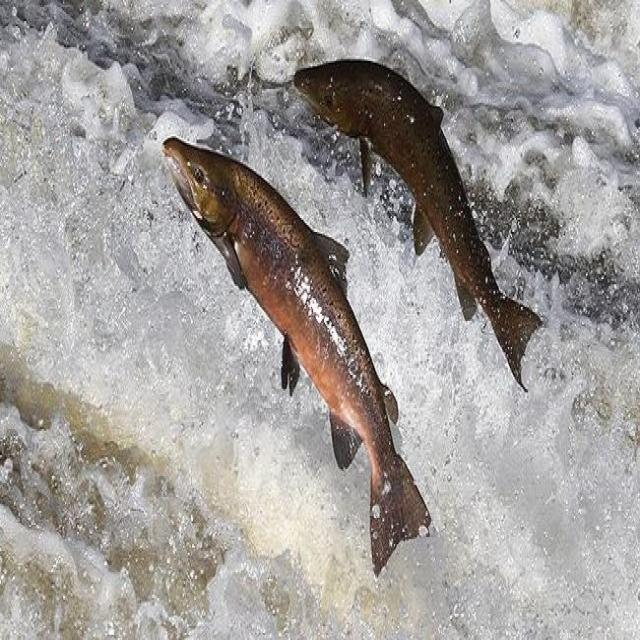salmon: (156, 114, 444, 569), (284, 39, 550, 391)
